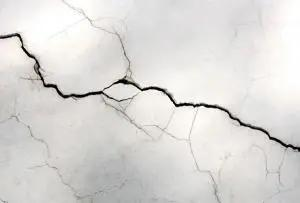Crack: (0, 27, 300, 156)
